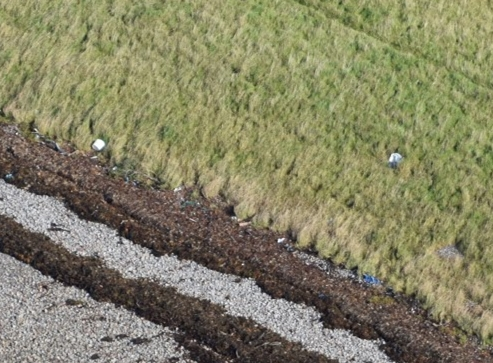white_in_green: (367, 129, 424, 180), (69, 117, 126, 168), (345, 251, 402, 302)
